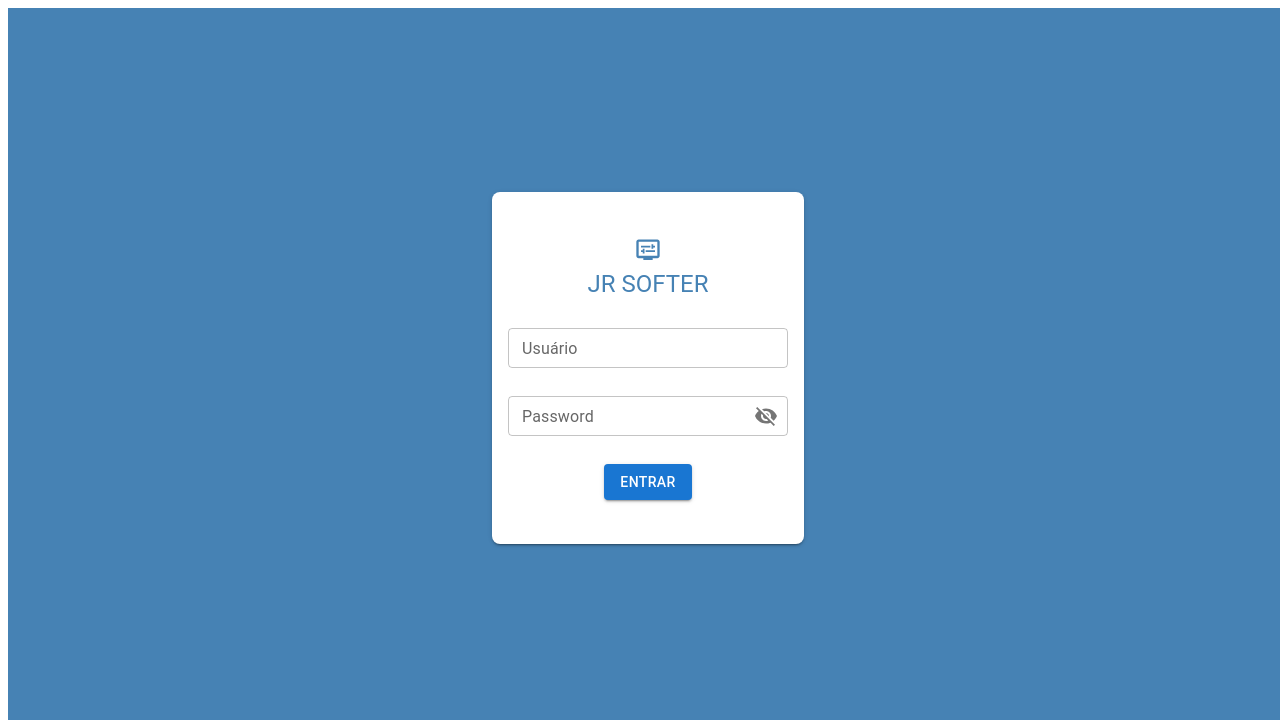
Test: Logar › Validação campo vazio
Type "admin@admin" into the field with id "user". click: (648, 348)
box: [508,328,788,368]
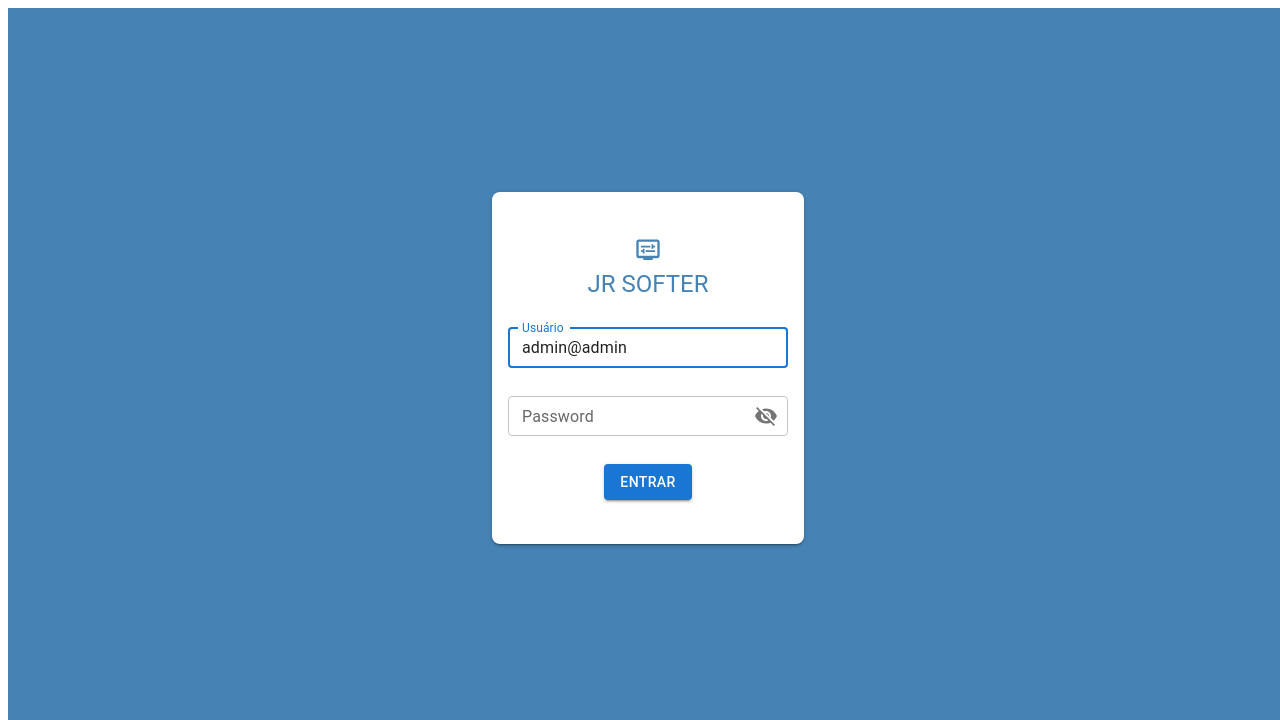
Click the button with id "login". click: (648, 483)
box: [604,464,691,501]
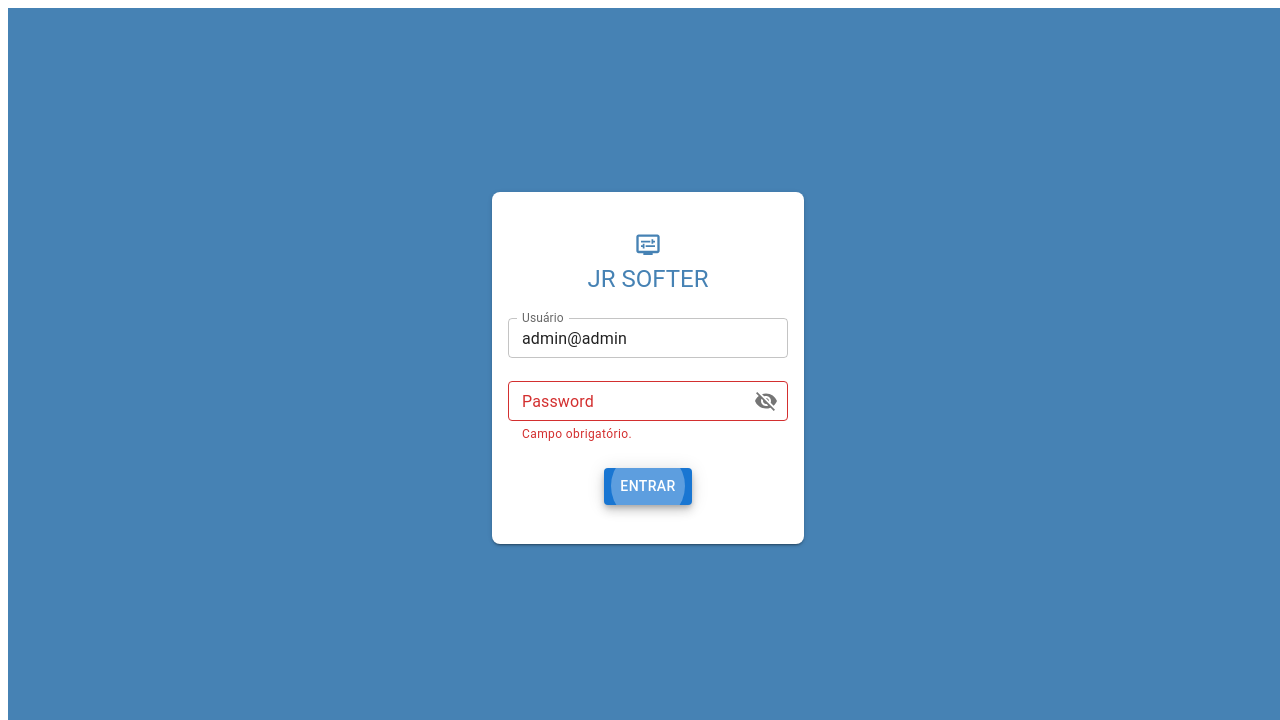
expect the text "Campo obrigatório." is shown: met, box [522,427,632,441]
